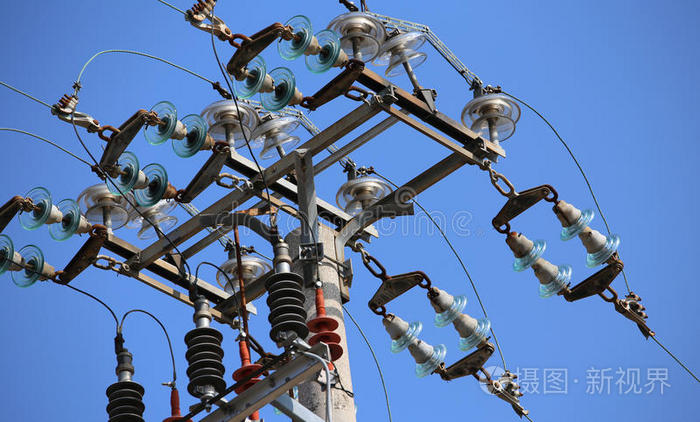insulator: (506, 233, 572, 294), (275, 12, 341, 71), (434, 292, 493, 356), (562, 207, 623, 266), (107, 152, 173, 206), (145, 100, 205, 159), (21, 186, 81, 243), (233, 55, 297, 107), (393, 320, 448, 377), (460, 95, 521, 141), (77, 181, 133, 228), (323, 15, 384, 57), (1, 232, 46, 288), (369, 33, 433, 72), (201, 100, 257, 143), (124, 199, 184, 239), (337, 175, 394, 217), (250, 113, 301, 155), (216, 255, 267, 291), (308, 317, 343, 362), (231, 362, 263, 394)
